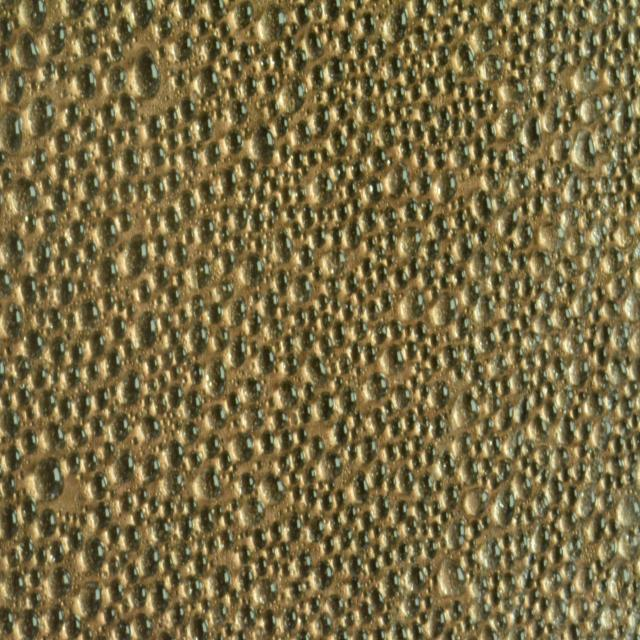dr: (132, 46, 162, 99), (34, 456, 64, 501), (28, 93, 57, 137), (277, 75, 306, 115), (452, 388, 480, 428), (439, 556, 466, 597), (259, 3, 287, 42), (250, 124, 276, 166), (12, 177, 40, 215), (573, 129, 597, 173), (0, 109, 23, 154), (383, 3, 408, 44), (204, 356, 228, 398), (238, 250, 264, 288), (134, 310, 158, 350), (17, 2, 51, 30), (126, 233, 148, 276), (259, 472, 286, 507), (616, 491, 640, 529), (399, 286, 425, 321), (1, 301, 23, 342), (494, 486, 516, 527), (78, 580, 103, 616), (472, 188, 495, 227), (435, 168, 457, 208), (73, 66, 98, 101), (188, 256, 212, 292), (386, 162, 410, 198), (304, 353, 327, 390), (495, 202, 518, 239), (273, 379, 298, 413), (198, 465, 222, 500), (573, 64, 600, 95), (1, 231, 24, 267), (455, 40, 476, 79), (48, 566, 72, 600), (208, 564, 232, 598), (310, 169, 334, 203), (239, 496, 266, 526), (17, 34, 39, 70), (119, 368, 141, 404), (112, 450, 136, 483), (580, 93, 604, 126), (129, 0, 156, 29), (5, 69, 25, 108), (83, 537, 105, 572), (364, 370, 388, 402), (150, 578, 170, 616), (289, 273, 312, 306), (399, 224, 422, 257), (273, 228, 294, 264), (30, 235, 51, 271), (463, 488, 490, 516), (318, 450, 343, 480), (584, 511, 606, 545), (434, 292, 456, 326), (382, 343, 406, 374), (614, 97, 633, 136), (523, 114, 542, 153), (592, 415, 612, 452), (105, 65, 128, 97), (197, 64, 220, 96), (77, 298, 100, 330), (43, 420, 66, 452), (536, 220, 559, 252), (238, 379, 265, 406), (96, 257, 118, 290), (0, 501, 18, 541), (542, 98, 562, 134), (232, 432, 254, 464), (617, 529, 639, 561), (302, 28, 324, 60), (228, 333, 248, 368), (242, 403, 265, 433), (109, 411, 131, 442), (18, 609, 40, 640), (327, 127, 349, 158), (473, 22, 495, 53), (120, 144, 140, 178), (227, 295, 247, 329), (188, 320, 208, 354), (338, 384, 358, 418), (97, 216, 118, 248), (428, 378, 449, 410), (498, 108, 519, 140), (313, 102, 332, 137), (88, 1, 110, 31), (26, 145, 48, 175), (396, 463, 416, 496), (390, 382, 412, 412), (324, 246, 346, 276), (530, 250, 550, 283), (475, 294, 496, 325), (511, 169, 532, 200), (612, 320, 630, 356), (355, 123, 374, 157), (144, 142, 167, 170), (5, 570, 26, 600), (615, 221, 636, 251), (48, 21, 67, 54), (141, 544, 160, 577), (574, 286, 593, 319), (254, 578, 278, 604), (255, 345, 275, 376), (569, 356, 589, 387), (117, 93, 139, 121), (502, 75, 524, 103), (428, 604, 446, 638), (578, 484, 596, 518), (316, 389, 334, 423), (405, 563, 426, 592), (234, 0, 253, 32), (195, 110, 214, 142), (531, 522, 550, 554), (174, 32, 194, 62), (314, 560, 334, 590), (481, 538, 501, 568), (611, 561, 631, 591), (530, 414, 550, 444), (566, 228, 586, 258), (480, 55, 502, 82), (178, 190, 197, 221), (104, 347, 123, 378), (368, 458, 387, 489), (446, 519, 465, 550), (306, 433, 325, 464), (549, 594, 568, 625), (557, 414, 576, 445), (133, 612, 154, 640), (470, 250, 491, 278), (476, 325, 496, 354), (220, 166, 238, 198), (20, 274, 38, 306), (46, 602, 64, 634), (506, 427, 524, 459), (205, 404, 228, 429), (293, 548, 312, 578), (189, 613, 210, 640), (538, 66, 559, 93), (81, 172, 101, 200), (38, 388, 58, 416), (552, 134, 572, 162), (56, 274, 74, 305), (352, 471, 370, 502), (360, 433, 378, 464), (344, 219, 362, 250), (370, 143, 388, 174), (594, 122, 612, 153), (92, 501, 111, 530), (437, 449, 456, 478), (163, 469, 185, 494), (224, 130, 245, 156), (236, 604, 257, 630), (382, 54, 403, 80), (79, 28, 97, 58), (162, 204, 180, 234), (296, 325, 316, 352), (23, 331, 43, 358), (184, 389, 202, 419), (141, 414, 161, 441), (89, 470, 107, 500), (183, 576, 203, 603), (363, 178, 383, 205), (455, 231, 473, 261), (462, 278, 480, 308), (510, 366, 530, 393), (564, 327, 584, 354), (609, 359, 629, 386), (79, 116, 98, 144), (368, 406, 387, 434), (430, 212, 449, 240), (411, 25, 430, 53), (382, 569, 399, 600), (261, 289, 279, 318), (38, 508, 56, 537), (280, 604, 298, 633), (496, 402, 514, 431), (316, 330, 334, 359), (452, 139, 470, 168), (516, 219, 534, 248), (228, 100, 248, 126), (293, 120, 313, 146), (152, 516, 172, 542), (63, 363, 82, 390), (314, 611, 333, 638), (590, 0, 609, 27), (197, 214, 214, 244), (50, 332, 67, 362), (167, 438, 184, 468), (148, 176, 166, 204), (203, 432, 221, 460), (197, 505, 215, 533), (608, 272, 626, 300), (236, 471, 256, 496), (485, 0, 505, 25), (59, 0, 85, 19), (264, 316, 283, 342), (141, 454, 160, 480), (122, 524, 141, 550), (570, 2, 589, 28), (285, 512, 302, 541), (116, 18, 134, 45), (1, 408, 19, 435), (514, 471, 532, 498), (176, 0, 199, 21), (205, 0, 228, 21), (377, 123, 397, 147), (560, 256, 580, 280), (358, 98, 378, 122), (322, 0, 342, 24), (538, 40, 558, 64), (581, 28, 597, 58), (621, 24, 636, 56), (152, 262, 169, 290), (21, 428, 38, 456), (178, 513, 195, 541), (237, 564, 254, 592), (330, 318, 347, 346), (361, 206, 378, 234), (555, 303, 572, 331), (293, 0, 311, 26), (168, 602, 186, 628), (402, 592, 420, 618), (414, 170, 432, 196), (606, 247, 624, 273), (327, 56, 345, 82), (118, 176, 134, 205), (443, 481, 459, 510), (462, 457, 478, 486), (577, 564, 593, 593), (51, 187, 68, 214), (274, 267, 291, 294), (566, 533, 583, 560), (181, 148, 200, 172), (217, 250, 236, 274), (570, 596, 589, 620), (40, 208, 58, 233), (199, 180, 217, 205), (213, 324, 231, 349), (390, 267, 408, 292), (496, 248, 514, 273), (482, 166, 500, 191), (237, 40, 253, 68), (76, 389, 92, 417), (534, 489, 550, 517), (514, 396, 530, 424), (204, 142, 221, 168), (164, 168, 181, 194), (299, 206, 316, 232), (171, 241, 188, 267), (297, 243, 314, 269), (134, 278, 151, 304), (110, 314, 127, 340), (89, 328, 106, 354), (130, 583, 147, 609), (307, 516, 324, 542), (373, 494, 390, 520), (391, 498, 408, 524), (561, 506, 578, 532), (598, 537, 615, 563), (603, 298, 620, 324), (513, 528, 527, 559), (64, 102, 80, 129), (13, 355, 31, 379), (14, 383, 32, 407), (181, 420, 199, 444), (71, 422, 89, 446), (174, 541, 192, 565), (0, 608, 16, 635), (486, 432, 502, 459), (544, 570, 562, 594), (311, 223, 327, 250), (402, 197, 418, 224), (419, 99, 437, 123), (156, 13, 173, 38), (145, 113, 162, 138), (204, 36, 221, 61), (178, 96, 195, 121), (216, 276, 233, 301), (246, 311, 263, 336), (282, 352, 299, 377), (20, 497, 37, 522), (65, 613, 82, 638), (586, 459, 603, 484), (587, 391, 604, 416), (357, 72, 374, 97), (228, 389, 242, 419), (621, 310, 640, 332), (100, 103, 116, 129), (54, 154, 70, 180), (103, 186, 119, 212), (5, 445, 21, 471), (261, 609, 277, 635), (424, 237, 440, 263), (557, 386, 573, 412), (530, 157, 546, 183), (424, 72, 440, 98), (523, 0, 539, 26), (68, 219, 86, 242), (188, 295, 206, 318), (535, 445, 553, 468), (524, 330, 542, 353), (240, 74, 257, 98), (211, 603, 228, 627), (368, 588, 385, 612), (417, 472, 434, 496), (552, 446, 569, 470), (492, 353, 509, 377), (547, 269, 564, 293), (480, 120, 497, 144), (359, 12, 376, 36), (539, 18, 556, 42), (75, 147, 90, 174), (569, 173, 582, 204), (249, 207, 265, 232), (167, 383, 183, 408), (94, 386, 110, 411), (507, 31, 523, 56), (327, 594, 345, 616), (437, 105, 451, 133), (207, 302, 224, 325), (233, 204, 248, 230), (454, 312, 469, 338), (419, 197, 434, 223), (442, 68, 457, 94), (41, 59, 57, 83), (54, 128, 70, 152), (292, 47, 308, 71), (0, 474, 16, 498), (291, 446, 307, 470), (472, 573, 488, 597), (548, 479, 564, 503), (260, 431, 276, 455), (382, 206, 398, 230), (496, 319, 512, 343), (550, 356, 566, 380), (504, 274, 520, 298), (382, 526, 400, 547), (502, 298, 520, 319), (605, 386, 619, 413), (270, 46, 285, 71), (57, 395, 72, 420), (421, 262, 436, 287), (442, 344, 459, 366), (240, 156, 256, 179), (84, 359, 100, 382), (67, 527, 83, 550), (297, 401, 313, 424), (509, 342, 525, 365), (592, 222, 608, 245), (529, 192, 545, 215), (308, 65, 324, 88), (598, 320, 612, 346), (337, 96, 351, 122), (262, 71, 277, 95), (448, 598, 463, 622), (502, 571, 517, 595), (530, 614, 545, 638), (353, 318, 368, 342), (373, 320, 388, 344), (415, 144, 430, 168), (592, 370, 610, 390), (622, 62, 637, 86), (337, 30, 352, 54), (603, 65, 620, 86), (98, 134, 114, 156), (108, 579, 124, 601), (115, 618, 131, 640), (288, 578, 304, 600), (347, 553, 363, 575), (354, 530, 370, 552), (477, 624, 499, 640), (272, 408, 288, 430), (613, 140, 629, 162), (0, 18, 14, 43), (104, 156, 118, 181), (118, 207, 132, 232), (304, 484, 318, 509), (69, 340, 84, 363), (83, 450, 98, 473), (219, 526, 234, 549), (338, 526, 353, 549), (520, 566, 535, 589), (366, 299, 381, 322), (328, 224, 343, 247), (440, 251, 455, 274), (403, 409, 418, 432), (325, 275, 343, 294), (409, 0, 428, 18), (388, 623, 408, 640), (0, 271, 13, 297), (164, 105, 178, 129), (275, 113, 289, 137), (32, 364, 46, 388), (414, 500, 430, 521), (492, 610, 508, 631), (572, 458, 586, 482), (608, 455, 624, 476), (336, 354, 352, 375), (364, 342, 378, 366), (468, 361, 484, 382), (336, 200, 350, 224), (0, 167, 15, 189), (166, 285, 181, 307), (193, 552, 208, 574), (343, 502, 358, 524), (496, 458, 511, 480), (599, 489, 614, 511), (382, 230, 397, 252), (350, 158, 365, 180), (411, 118, 426, 140), (354, 36, 369, 58), (597, 27, 612, 49), (624, 5, 639, 27), (154, 232, 168, 255), (154, 392, 168, 415), (89, 414, 103, 437), (66, 451, 80, 474), (20, 536, 34, 559), (50, 541, 64, 564), (254, 554, 268, 577), (348, 575, 362, 598), (400, 136, 414, 159), (622, 195, 636, 218), (391, 82, 405, 105), (408, 620, 424, 640), (538, 292, 554, 312), (231, 234, 246, 255), (252, 528, 267, 549), (421, 538, 436, 559), (457, 431, 472, 452), (463, 343, 478, 364), (511, 143, 526, 164), (343, 7, 358, 28), (135, 179, 148, 203), (48, 306, 61, 330), (521, 274, 533, 300), (268, 195, 282, 217), (107, 522, 121, 544), (125, 562, 139, 584), (238, 543, 252, 565), (270, 520, 284, 542), (359, 602, 373, 624), (360, 509, 374, 531), (404, 514, 418, 536), (341, 299, 355, 321), (389, 318, 403, 340), (344, 272, 358, 294), (333, 158, 347, 180), (432, 147, 446, 169), (431, 416, 445, 438), (294, 425, 308, 447), (280, 430, 294, 452), (544, 399, 558, 421), (549, 168, 563, 190), (508, 4, 522, 26), (432, 0, 449, 18), (538, 313, 554, 332), (23, 214, 38, 234), (119, 492, 134, 512), (302, 464, 317, 484), (407, 255, 419, 280), (418, 413, 430, 438), (521, 438, 536, 458), (587, 246, 602, 266), (480, 416, 493, 439), (596, 345, 609, 368), (609, 20, 622, 43), (179, 125, 193, 146), (282, 332, 296, 353), (68, 249, 82, 270), (320, 490, 334, 511), (277, 452, 291, 473), (477, 600, 491, 621), (507, 626, 528, 640), (304, 305, 318, 326), (360, 256, 374, 277), (375, 261, 389, 282), (620, 397, 634, 418), (494, 191, 508, 212), (462, 115, 476, 136), (190, 361, 202, 385), (424, 442, 436, 466), (472, 136, 484, 160), (174, 344, 187, 366), (548, 191, 561, 213), (436, 44, 449, 66), (604, 519, 619, 538), (98, 52, 112, 72), (108, 42, 122, 62), (52, 254, 66, 274), (240, 182, 254, 202), (168, 326, 182, 346), (188, 450, 202, 470), (132, 506, 146, 526), (6, 548, 20, 568), (102, 605, 116, 625), (308, 594, 322, 614), (396, 439, 410, 459), (500, 593, 514, 613), (315, 292, 329, 312), (617, 417, 631, 437), (558, 49, 570, 72), (293, 307, 306, 328), (219, 450, 232, 471), (162, 496, 175, 517), (35, 545, 48, 566), (334, 487, 347, 508), (344, 179, 357, 200), (487, 377, 500, 398), (542, 379, 557, 397), (545, 333, 560, 351), (78, 201, 92, 220), (185, 497, 199, 516), (511, 605, 525, 624), (567, 621, 581, 640), (524, 351, 538, 370), (441, 25, 455, 44), (558, 26, 572, 45), (0, 44, 11, 68), (279, 142, 291, 164), (136, 484, 148, 506), (537, 555, 548, 579), (350, 341, 362, 363), (539, 348, 551, 370), (172, 66, 185, 86), (196, 17, 209, 37), (167, 130, 180, 150), (102, 292, 115, 312), (84, 240, 97, 260), (146, 354, 159, 374), (29, 567, 42, 587), (107, 556, 120, 576), (169, 569, 182, 589), (329, 295, 342, 315), (389, 417, 402, 437), (578, 419, 591, 439), (534, 365, 547, 385), (427, 125, 440, 145), (218, 223, 230, 244), (218, 201, 232, 219), (149, 210, 161, 231), (385, 441, 397, 462), (306, 147, 318, 168), (404, 340, 418, 358), (350, 196, 362, 217), (454, 209, 466, 230), (515, 252, 529, 270), (624, 171, 636, 192), (255, 184, 268, 203), (469, 519, 482, 538), (564, 560, 577, 579), (592, 593, 605, 612), (379, 291, 392, 310), (490, 272, 503, 291), (582, 266, 595, 285), (474, 99, 487, 118), (534, 89, 547, 108), (324, 82, 337, 101), (374, 37, 387, 56), (162, 346, 173, 368), (520, 451, 531, 473), (613, 432, 624, 454), (268, 97, 280, 117), (258, 165, 270, 185), (160, 310, 172, 330), (35, 308, 47, 328), (206, 533, 218, 553), (322, 534, 334, 554), (330, 512, 342, 532), (397, 541, 409, 561), (465, 548, 477, 568), (503, 550, 515, 570), (551, 544, 563, 564), (413, 322, 425, 342), (567, 205, 579, 225), (604, 157, 616, 177), (450, 116, 462, 136), (404, 66, 416, 86), (570, 46, 582, 66), (596, 48, 608, 68), (612, 48, 624, 68), (40, 177, 54, 194), (576, 441, 590, 458), (605, 193, 619, 210), (582, 176, 596, 193), (465, 5, 479, 22), (218, 22, 231, 40), (28, 591, 41, 609), (367, 558, 380, 576), (527, 588, 540, 606), (583, 208, 596, 226), (532, 387, 543, 408), (292, 151, 304, 170), (278, 540, 290, 559), (382, 547, 394, 566), (411, 452, 423, 471), (624, 466, 636, 485), (430, 353, 442, 372), (519, 312, 531, 331), (410, 82, 422, 101), (335, 624, 349, 640), (311, 266, 325, 282), (624, 382, 638, 398), (353, 627, 370, 640), (419, 344, 432, 361), (364, 278, 377, 295), (600, 178, 613, 195), (604, 91, 617, 108), (115, 125, 126, 145), (281, 184, 292, 204), (148, 495, 159, 515), (485, 146, 496, 166), (56, 236, 68, 254), (292, 182, 304, 200), (0, 389, 12, 407), (332, 554, 344, 572), (385, 472, 397, 490), (430, 520, 442, 538), (482, 456, 494, 474), (489, 588, 501, 606), (514, 586, 526, 604), (501, 530, 513, 548), (524, 605, 536, 623), (320, 312, 332, 330), (476, 227, 488, 245), (367, 56, 379, 74), (540, 1, 554, 16), (57, 62, 68, 81), (284, 35, 295, 54), (223, 509, 234, 528), (525, 505, 536, 524), (365, 234, 376, 253), (478, 378, 489, 397), (402, 38, 413, 57), (526, 28, 537, 47), (285, 206, 298, 222), (102, 442, 115, 458), (538, 597, 550, 614), (454, 363, 466, 380), (374, 245, 386, 262), (418, 382, 430, 399), (586, 337, 598, 354), (590, 193, 602, 210), (425, 15, 437, 32), (461, 21, 473, 38), (38, 282, 49, 300), (163, 554, 174, 572), (265, 543, 276, 561), (372, 540, 383, 558), (430, 498, 441, 516), (489, 472, 500, 490), (537, 467, 548, 485), (593, 557, 604, 575), (498, 150, 509, 168), (557, 6, 568, 24), (412, 436, 424, 452), (602, 472, 614, 488), (559, 119, 571, 135), (564, 89, 576, 105), (472, 80, 484, 96), (463, 614, 473, 633), (512, 325, 522, 344), (184, 226, 195, 243), (591, 614, 602, 631), (569, 105, 580, 122), (373, 626, 386, 640), (412, 538, 422, 556), (347, 443, 357, 461), (626, 451, 638, 466), (458, 80, 468, 98), (382, 102, 392, 120), (281, 562, 292, 578), (344, 610, 355, 626), (559, 466, 570, 482), (594, 286, 605, 302), (522, 48, 533, 64), (260, 54, 270, 71), (614, 176, 624, 193), (599, 576, 608, 594), (129, 124, 139, 140), (270, 176, 280, 192), (551, 506, 561, 522), (614, 473, 624, 489), (400, 120, 410, 136), (114, 0, 125, 14), (347, 58, 358, 72), (424, 54, 435, 68), (382, 610, 392, 625), (564, 582, 574, 597), (592, 306, 602, 321), (462, 97, 472, 112), (452, 12, 462, 27), (491, 571, 500, 587), (82, 627, 93, 640), (292, 486, 302, 500), (289, 470, 299, 484), (490, 100, 500, 114), (419, 609, 428, 624), (452, 99, 461, 114), (527, 552, 537, 565), (424, 594, 433, 608), (474, 440, 483, 454), (394, 106, 403, 120), (590, 321, 598, 336), (626, 436, 635, 449), (486, 87, 494, 101), (519, 65, 527, 78)
